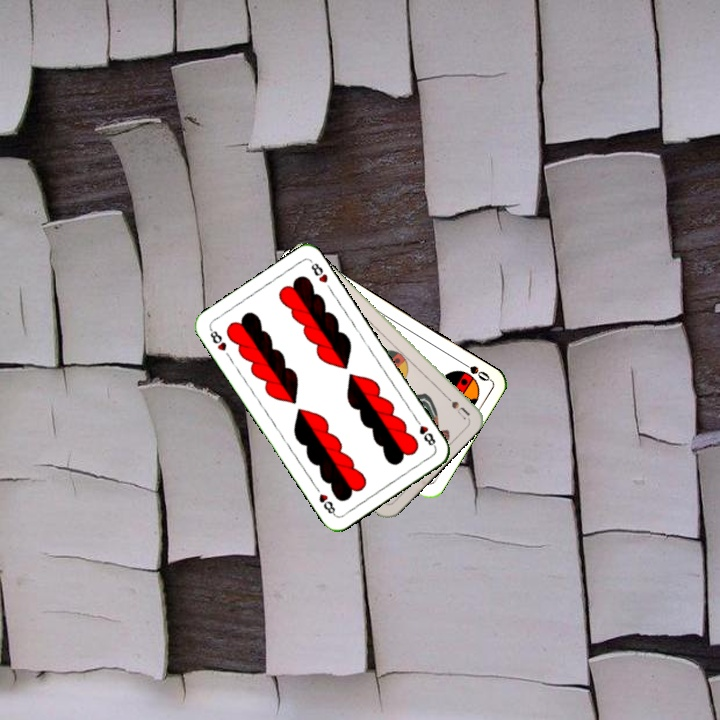H8: (411, 414, 439, 450), (206, 325, 229, 354)
SO: (456, 356, 492, 384)
SU: (437, 388, 472, 422)
